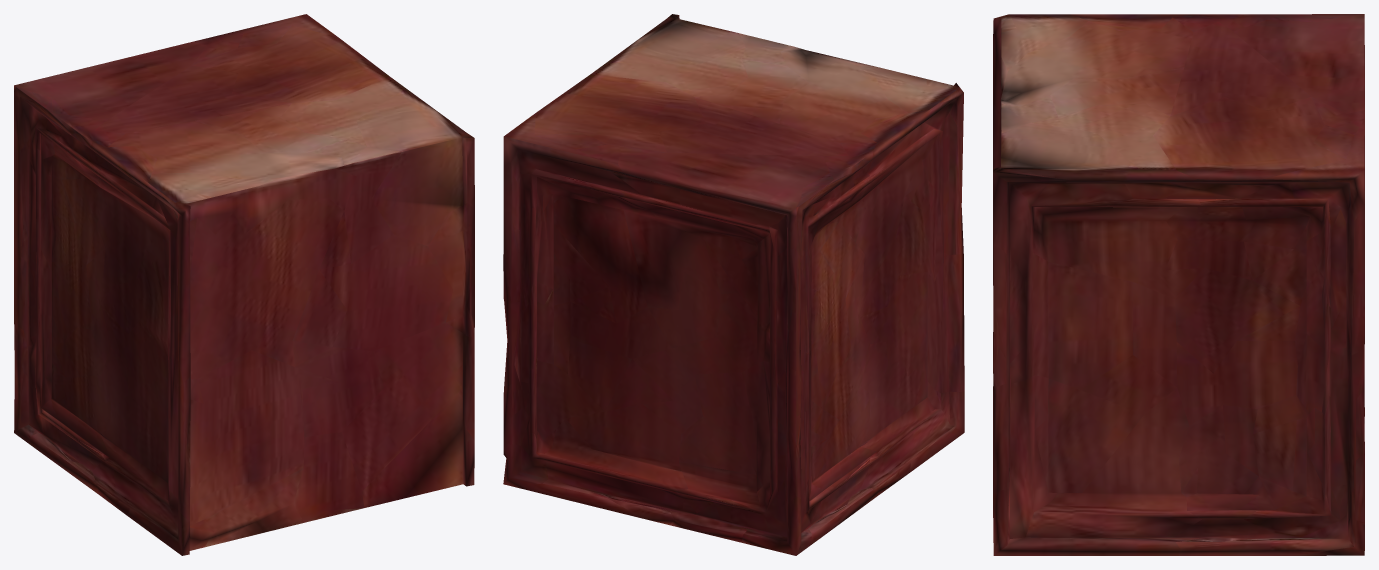
File: 古典木质门板.glb
The picture shows the model from 3 angles, left to right: view 1: azimuth 30°, elevation 25°; view 2: azimuth 150°, elevation 25°; view 3: azimuth 270°, elevation 25°; orthographic projection. The views are drawn at different scales.
Parts seen in each view (by area): view 1: tripo_node_ecdefda2-ae8a-46f7-a0cd-1123c4cd1ed3; view 2: tripo_node_ecdefda2-ae8a-46f7-a0cd-1123c4cd1ed3; view 3: tripo_node_ecdefda2-ae8a-46f7-a0cd-1123c4cd1ed3.
Boxes of the visible parts, x1,y1,x2,y2 form: tripo_node_ecdefda2-ae8a-46f7-a0cd-1123c4cd1ed3: (14, 14, 474, 555); tripo_node_ecdefda2-ae8a-46f7-a0cd-1123c4cd1ed3: (503, 14, 964, 555); tripo_node_ecdefda2-ae8a-46f7-a0cd-1123c4cd1ed3: (993, 14, 1364, 555).
Bounding box in the file's own units: 0.8804 × 0.9999 × 0.8766.
1 material, 1 textured.
